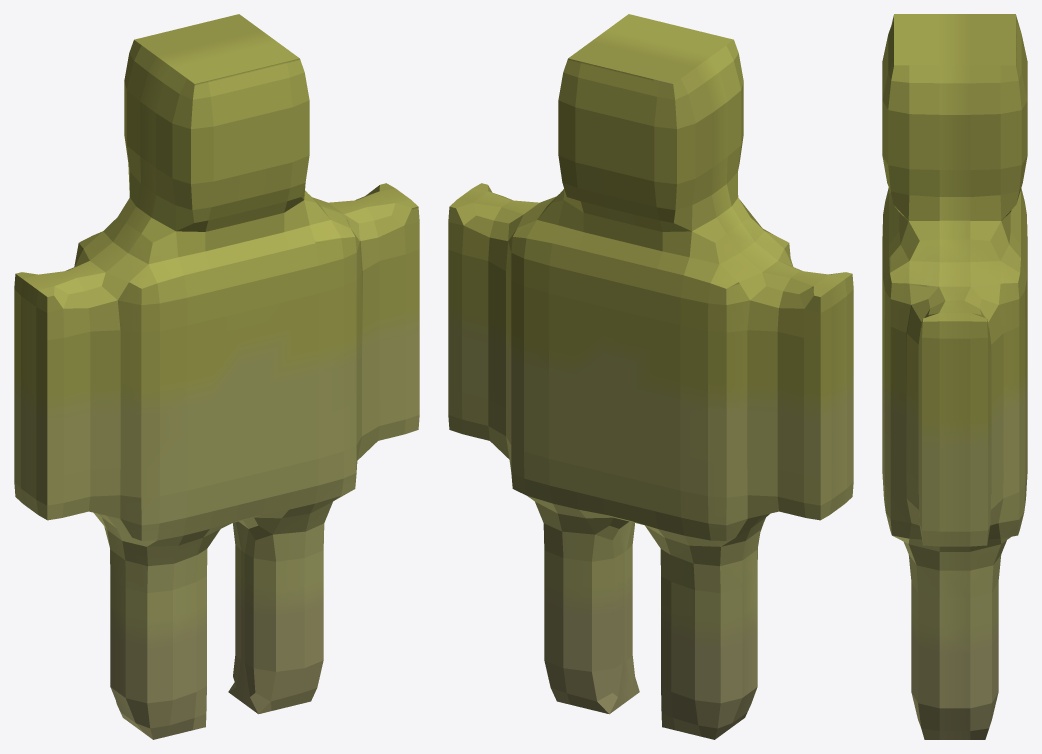
The model's file is fallenKnight.glb.
3 renders of one model, left to right at view 1: azimuth 30°, elevation 25°; view 2: azimuth 150°, elevation 25°; view 3: azimuth 270°, elevation 25°, orthographic.
Visible parts, largest first — view 1: geometry_0; view 2: geometry_0; view 3: geometry_0.
Boxes of the visible parts, <box> form: geometry_0: <box>14,14,419,739</box>; geometry_0: <box>448,14,853,739</box>; geometry_0: <box>882,14,1027,739</box>.
Bounding box in the file's own units: 0.597 × 1 × 0.199.
1 material, 1 textured.
